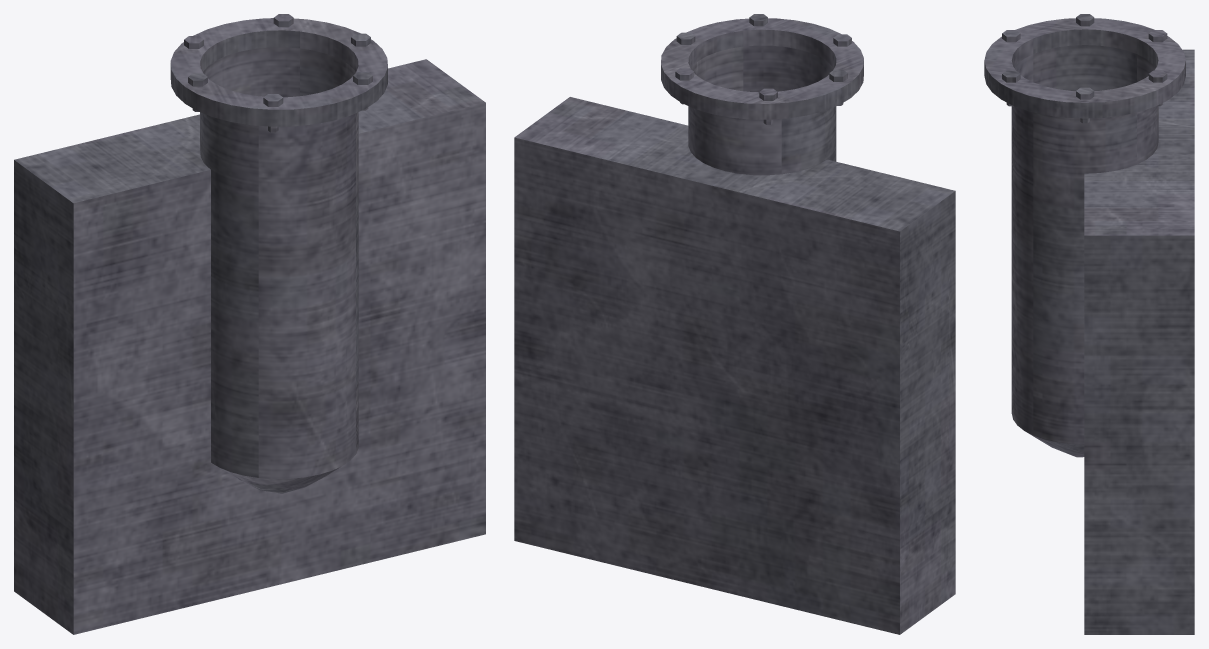
The model's file is Pipe_End.fbx.
3 renders of one model, left to right at view 1: azimuth 30°, elevation 25°; view 2: azimuth 150°, elevation 25°; view 3: azimuth 270°, elevation 25°, orthographic. The views are drawn at different scales.
Parts seen in each view (by area): view 1: Pipe End; view 2: Pipe End; view 3: Pipe End.
Part boxes in pixels (<box>): Pipe End: <box>14,14,485,634</box>; Pipe End: <box>514,14,955,634</box>; Pipe End: <box>984,14,1194,634</box>.
Size of the model in its own units: 600 by 733 by 286.
